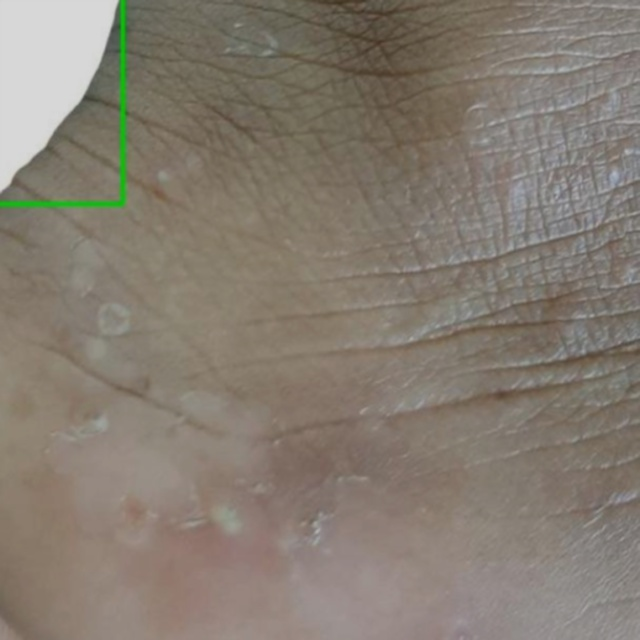Scabies: (0, 0, 122, 203)
